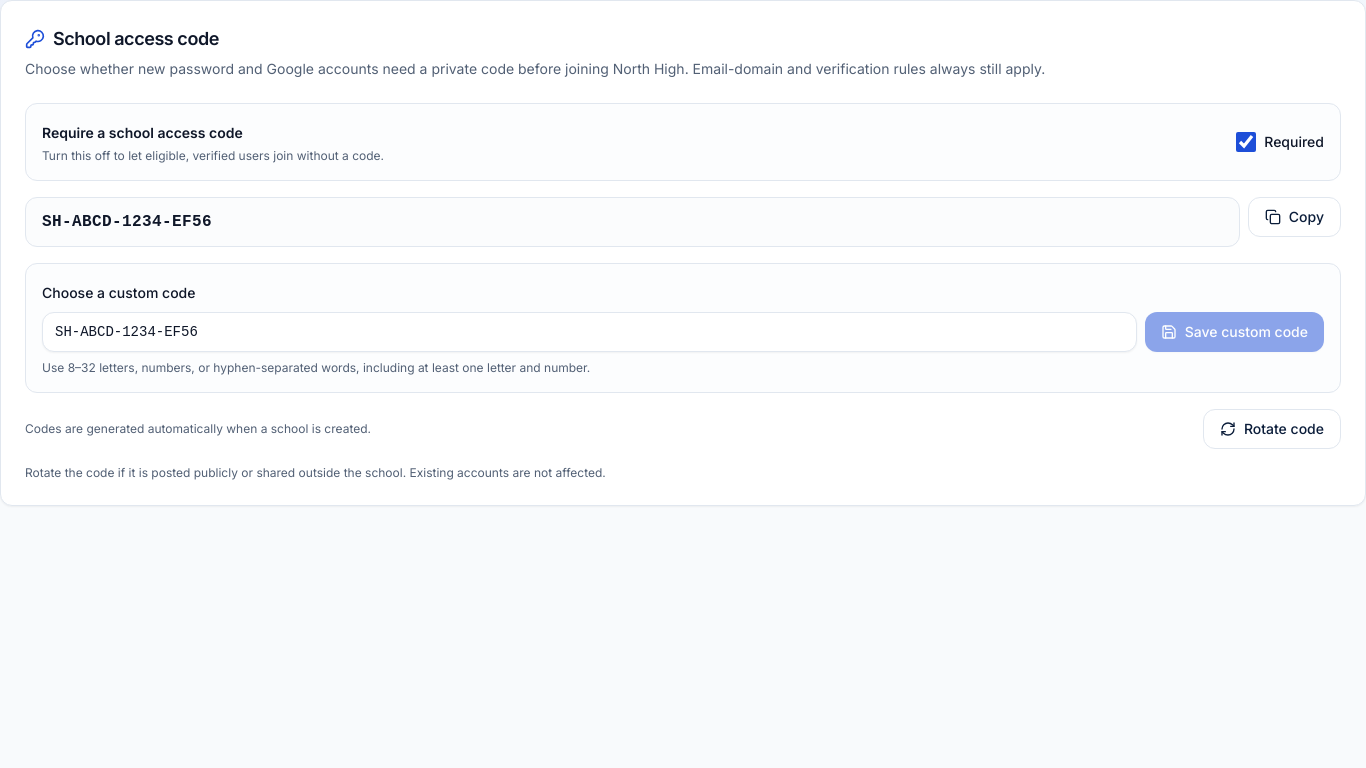
it: SchoolAccessCodeSettings › lets an administrator turn the school access-code requirement off
Click the switch labelled "Require a school access code" at (1246, 142), box [1236,132,1256,152]
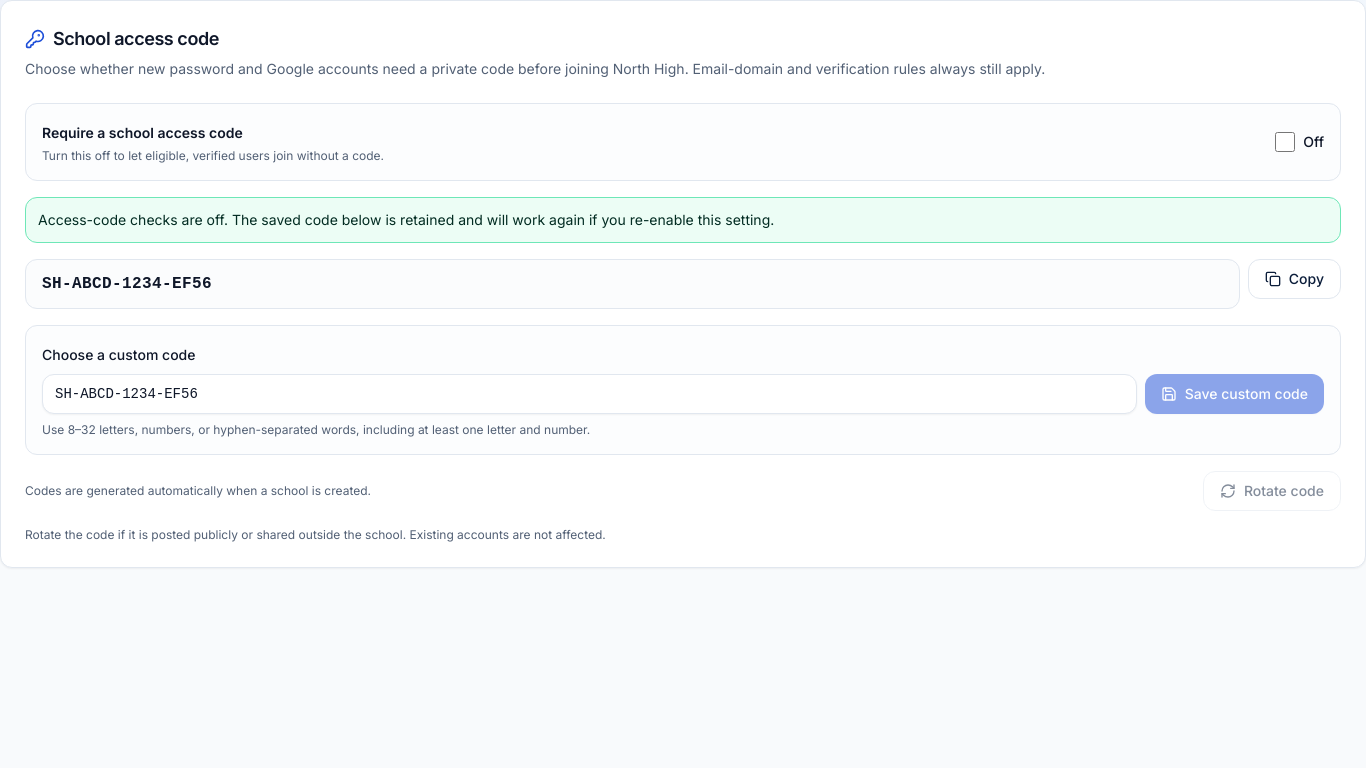
expect the text "Off" is shown: met, box [1275,132,1324,152]
expect the button "Rotate code" is disabled: met, box [1203,471,1341,511]
